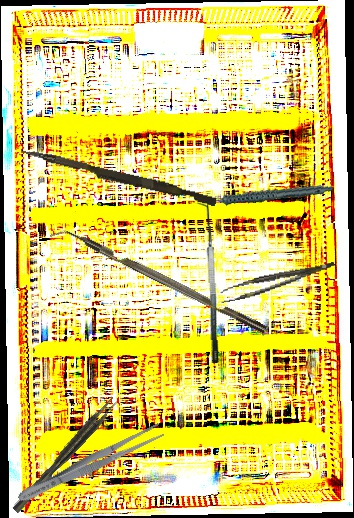Chopper: (49, 219, 267, 345)
Dressing Forceps: (14, 420, 166, 508)
Handpiece: (199, 168, 334, 220)
Pusher: (19, 147, 218, 207)
Spatula Surgical: (195, 202, 220, 364)
Tissue Forceps: (8, 395, 121, 514), (217, 261, 338, 304)
